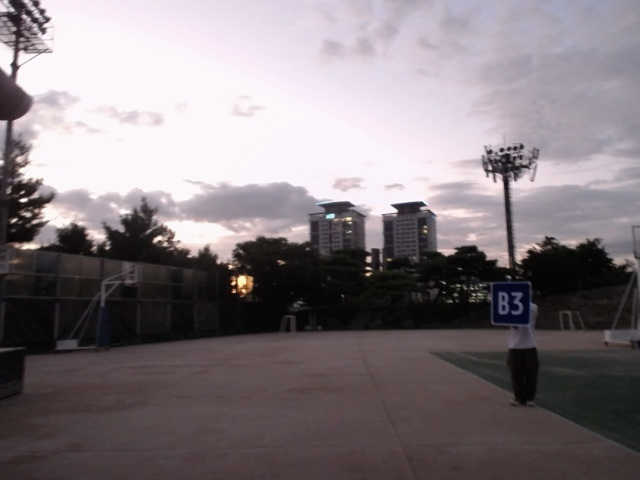delivery_b3: (490, 281, 533, 327)
